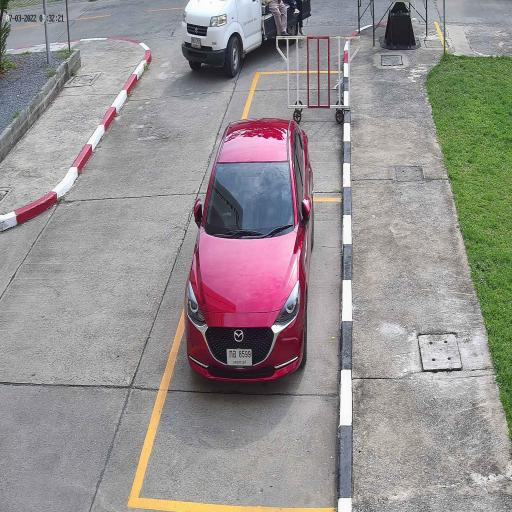car: (183, 116, 316, 383), (180, 0, 313, 79)
